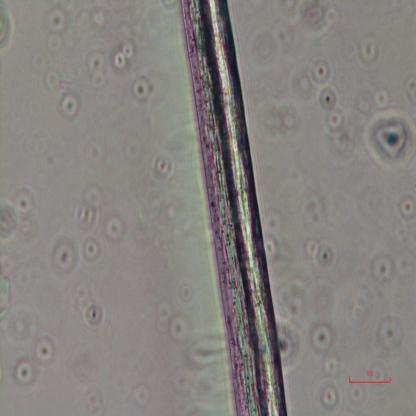Background material: (285, 272, 376, 328), (310, 52, 354, 157), (74, 182, 119, 262), (365, 109, 416, 172), (0, 182, 39, 246), (313, 327, 343, 410), (258, 98, 306, 145), (262, 211, 289, 278), (73, 276, 107, 329), (276, 314, 307, 372), (7, 301, 40, 353), (288, 2, 341, 34), (77, 132, 114, 175), (297, 182, 330, 227), (183, 334, 225, 367), (374, 313, 408, 352), (154, 304, 188, 340), (82, 44, 109, 89), (352, 32, 382, 70), (46, 7, 68, 58), (303, 235, 339, 266), (52, 233, 76, 276), (43, 64, 76, 92), (0, 2, 15, 58), (34, 335, 57, 370), (111, 41, 136, 73), (292, 64, 314, 98), (153, 149, 175, 180), (132, 381, 154, 412), (14, 358, 35, 390), (370, 255, 394, 282), (0, 250, 9, 318), (132, 75, 151, 104), (58, 96, 80, 121), (348, 382, 370, 405), (398, 195, 415, 221), (178, 283, 193, 304)
Microfibre: (178, 0, 287, 416)
